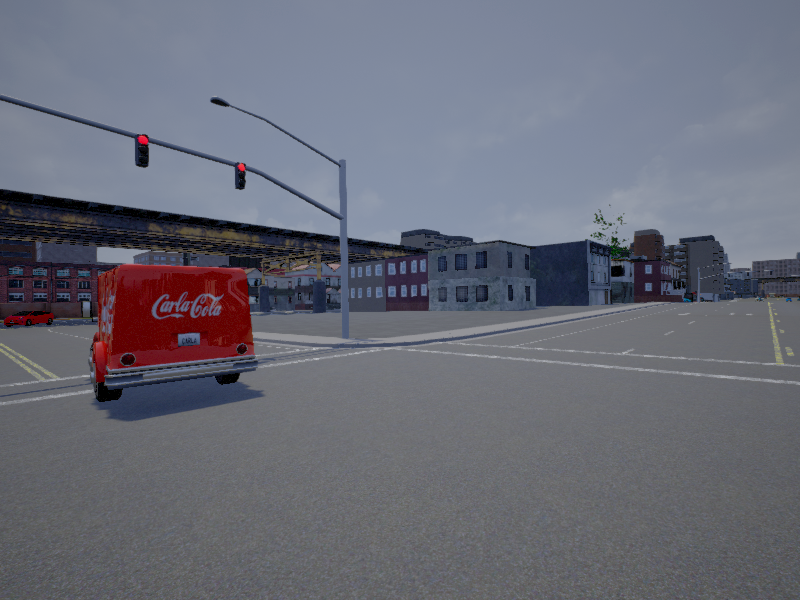Benign: (90, 268, 249, 403), (7, 311, 58, 327)
